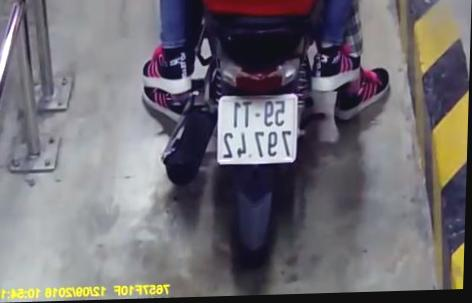License_Plate: (202, 88, 309, 168)
